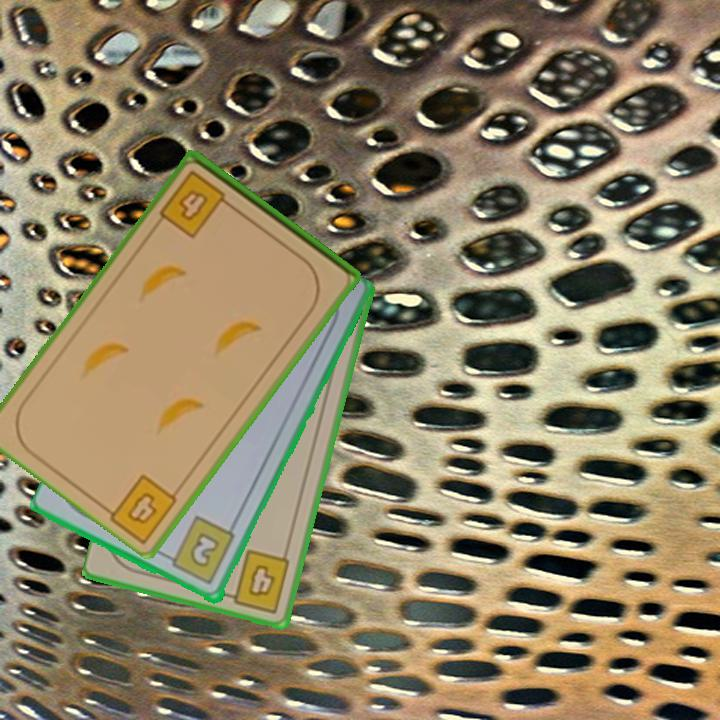2b: (161, 513, 238, 588)
4b: (156, 167, 238, 241), (220, 546, 293, 616), (123, 489, 161, 528)
